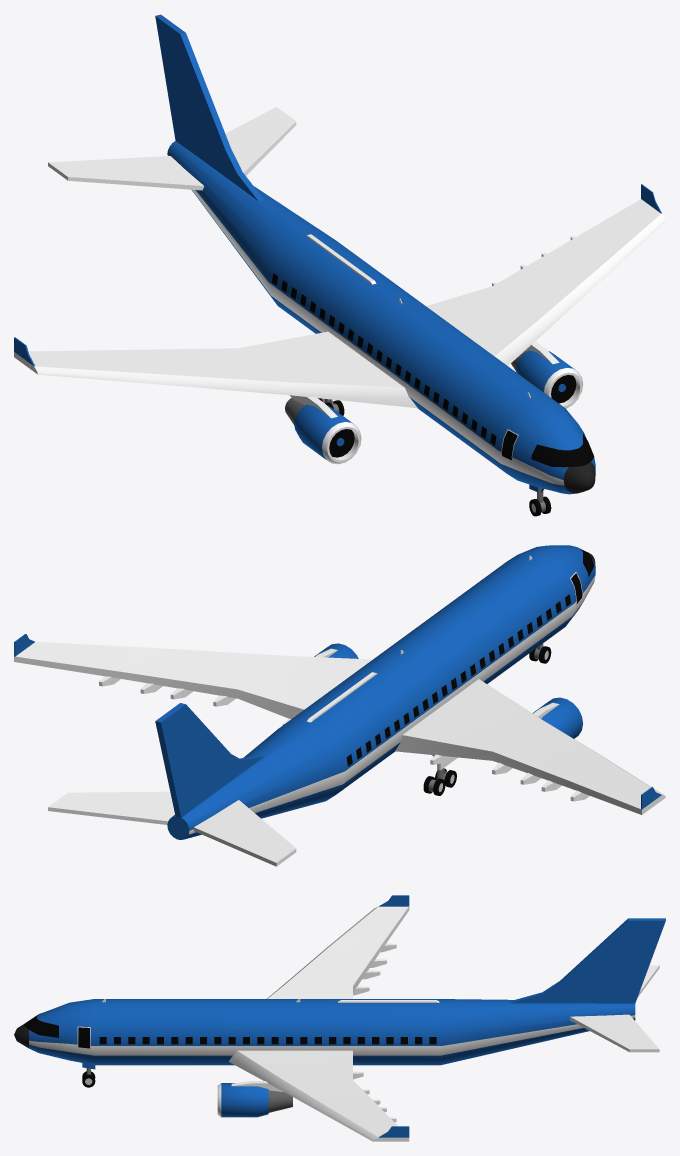
Rendered from Airplane(blue).fbx.
3 renders of one model, top to bottom at view 1: azimuth 30°, elevation 25°; view 2: azimuth 150°, elevation 25°; view 3: azimuth 270°, elevation 25°, orthographic. The views are drawn at different scales.
Parts seen in each view (by area): view 1: Airplane; view 2: Airplane; view 3: Airplane.
Boxes of the visible parts, bbox=[...] form: Airplane: bbox=[14, 14, 665, 516]; Airplane: bbox=[14, 545, 665, 866]; Airplane: bbox=[14, 895, 665, 1141].
Size of the model in its own units: 4670 by 1558 by 5560.
Materials: 1 (1 with a texture image).
